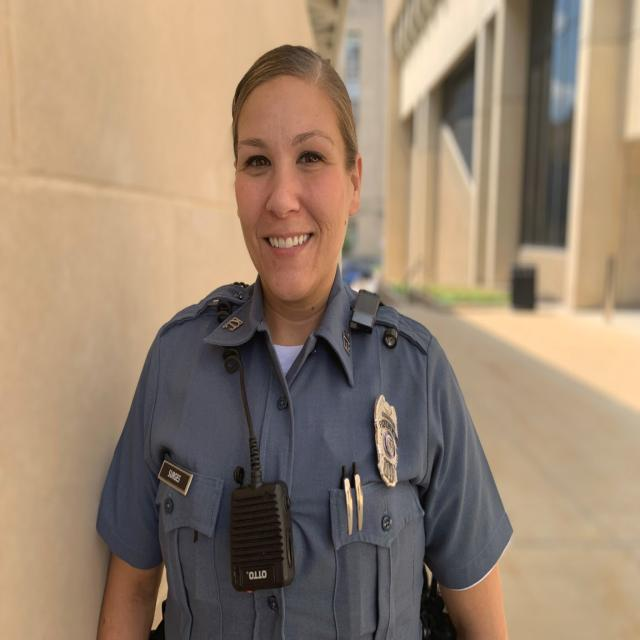police: (93, 41, 472, 640)
